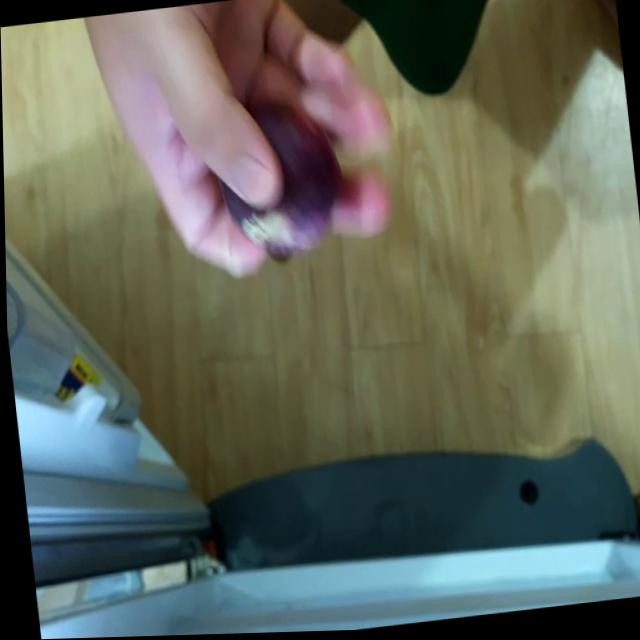onion: (219, 114, 348, 275)
